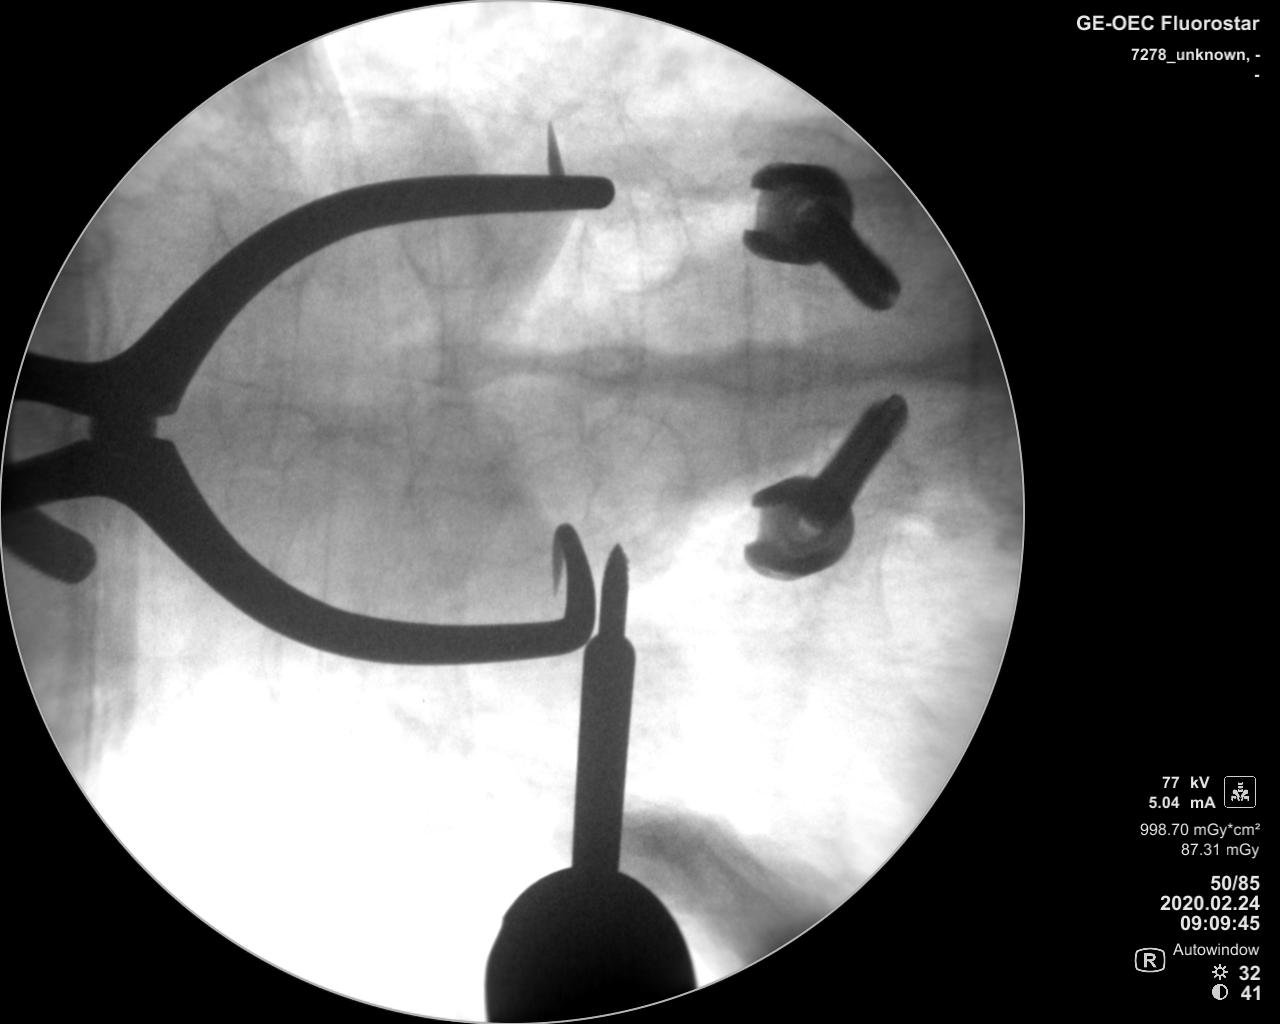eyes: (568, 417, 689, 531), (578, 204, 688, 292), (406, 404, 522, 470), (405, 222, 506, 287), (220, 405, 329, 462)
line: (424, 226, 451, 410), (735, 254, 757, 475)
nose: (696, 333, 872, 397), (523, 333, 692, 394), (354, 338, 516, 391)
